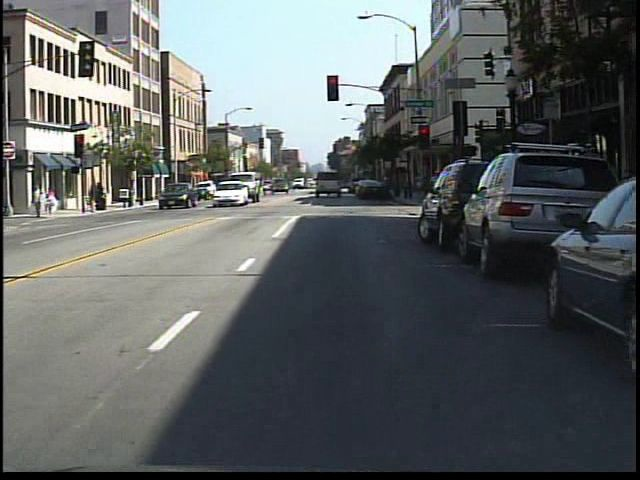person: (29, 182, 47, 222), (43, 186, 61, 220)
